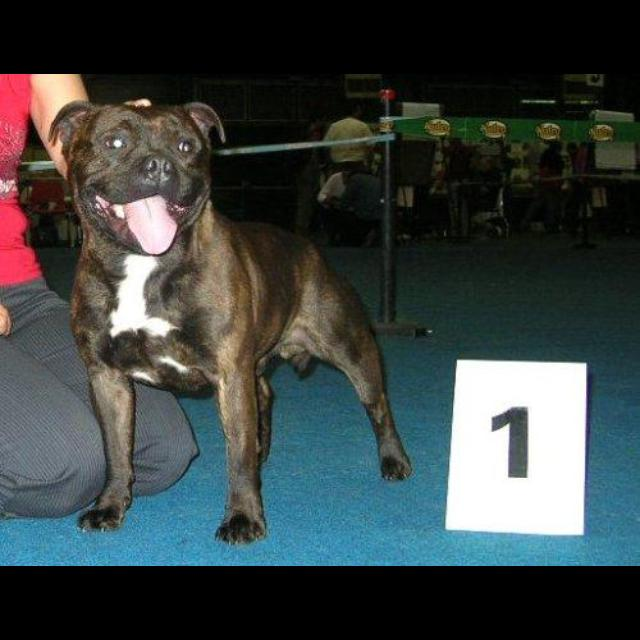staffford: (47, 99, 413, 548)
